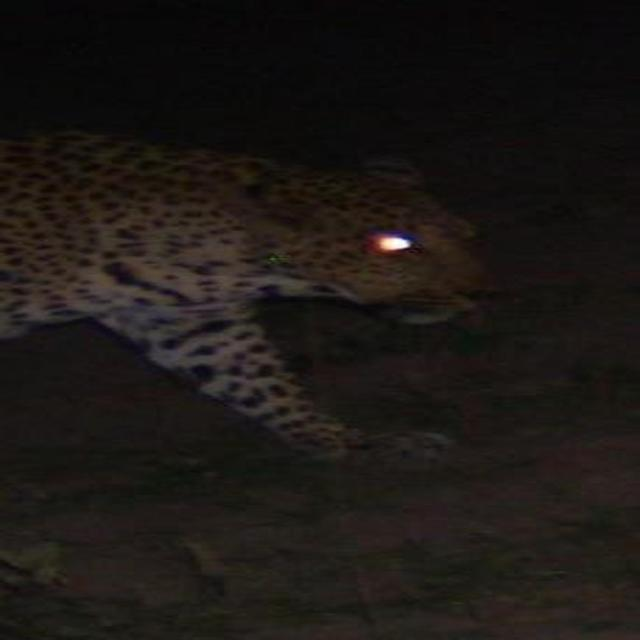Leopard: (0, 125, 534, 497)
